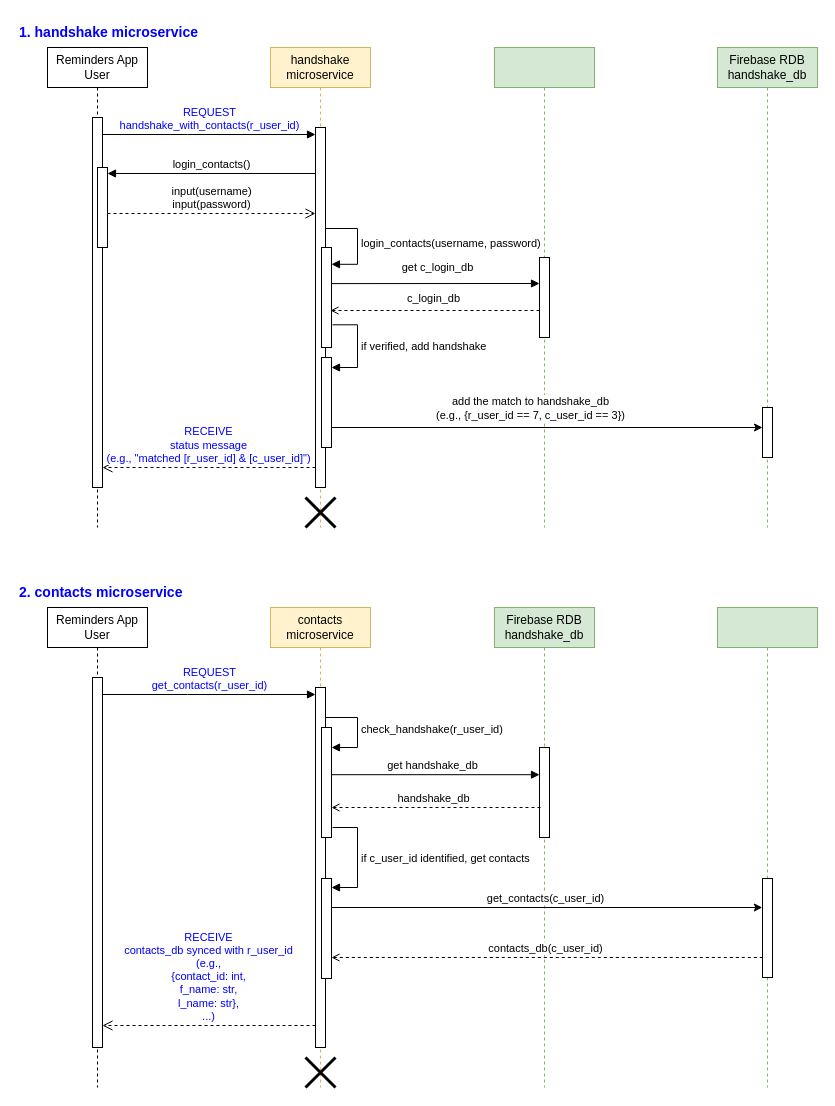
The diagram is 835 pixels wide and 1106 high, and some of its shapes have lost their labels. Each missing label, with the centre of its shape:
"Firebase RDB c_login_db" goes at (x=544, y=287).
"Firebase RDB contacts_db" goes at (x=767, y=847).
